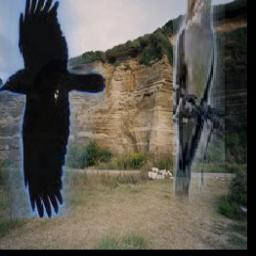Crow: (0, 0, 105, 218)
Cuckoo: (172, 0, 224, 237)
